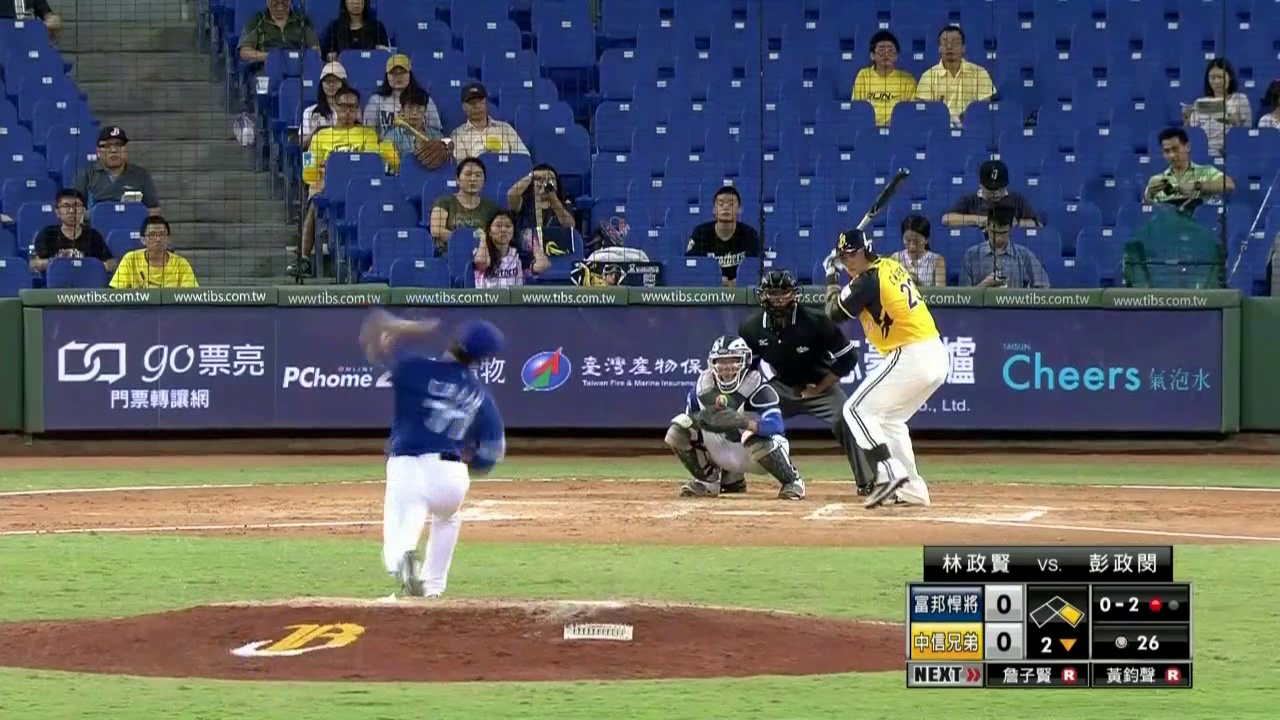ball: (424, 315, 442, 333)
base: (1027, 592, 1087, 629)
bat: (830, 164, 911, 260)
out: (1146, 589, 1182, 615)
score1: (988, 586, 1020, 619)
score2: (987, 624, 1022, 658)
session: (1028, 631, 1087, 658)
strikeball: (1095, 588, 1141, 615)
total: (1095, 627, 1183, 655)
